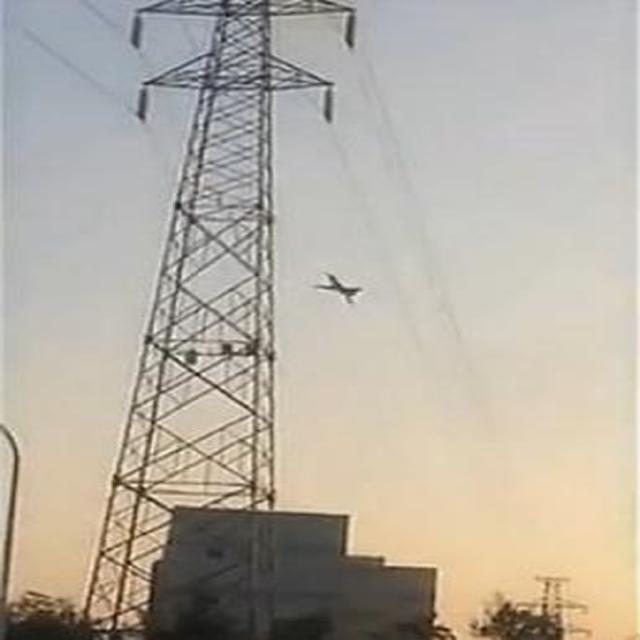non-critical vegetation: (92, 4, 359, 627)
